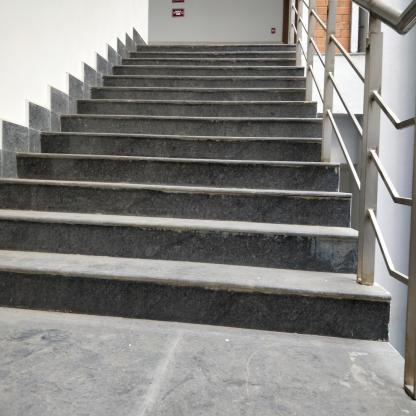stairs: (137, 43, 295, 344)
